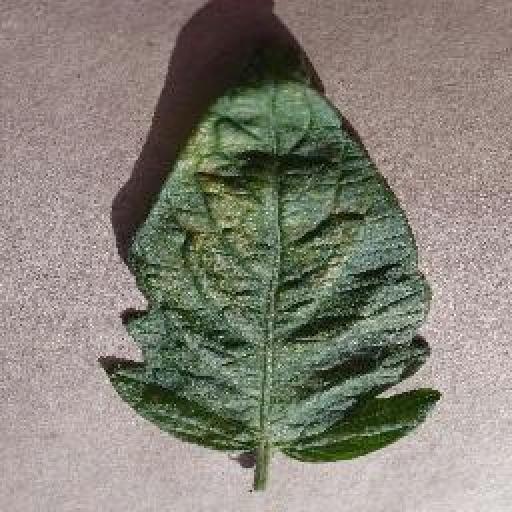disease_tomato: (106, 76, 440, 462)
